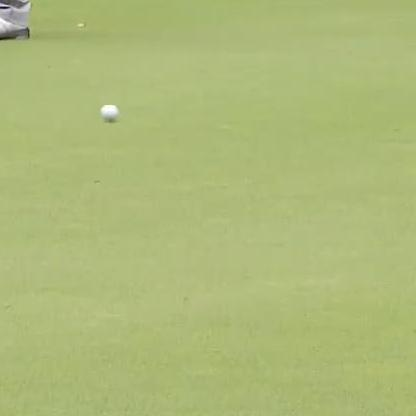golfball: (97, 100, 118, 122)
